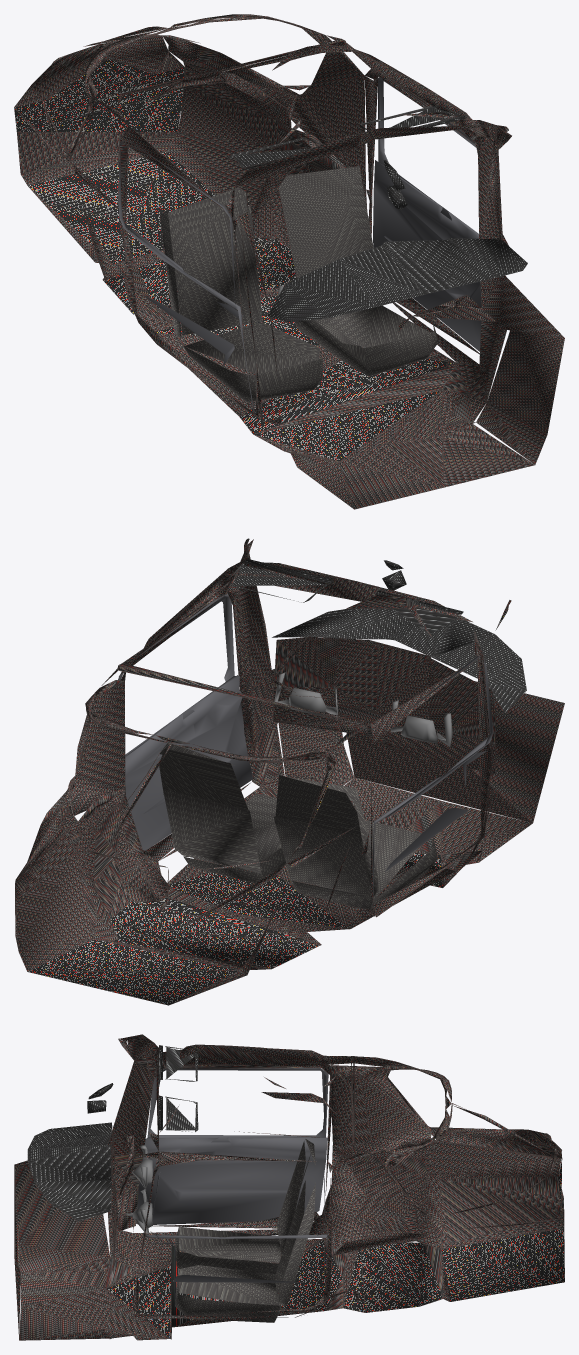
Rendered from C152_cockpit_LOD04.gltf.
3 renders of one model, top to bottom at view 1: azimuth 30°, elevation 25°; view 2: azimuth 150°, elevation 25°; view 3: azimuth 270°, elevation 25°, orthographic. The views are drawn at different scales.
Parts seen in each view (by area): view 1: Shell_NORMAL, Seats, Glareshield, Door_L, Door_R, Sun_visors, MainPanel; view 2: Shell_NORMAL, Seats, MainPanel, Door_L, Glareshield, Sun_visors, Door_R, HANDLING_Yoke_2, HANDLING_Yoke_1; view 3: Shell_NORMAL, Door_R, Seats, Glareshield, Sun_visors, Door_L, MainPanel, HANDLING_Yoke_1, HANDLING_Yoke_2, CompassFrame.
Part boxes in pixels (x1,y1,x2,y2): Shell_NORMAL: (14,14,564,509); Seats: (160,166,438,402); Glareshield: (268,238,527,322); Door_L: (373,77,481,351); Door_R: (118,141,254,413); Sun_visors: (226,105,465,168); MainPanel: (398,294,495,332); Shell_NORMAL: (15,538,564,1005); Seats: (159,743,437,909); MainPanel: (273,636,495,773); Door_L: (118,593,252,850); Glareshield: (272,608,526,712); Sun_visors: (227,558,463,634); Door_R: (373,656,493,893); HANDLING_Yoke_2: (391,700,452,746); HANDLING_Yoke_1: (274,672,337,717); Shell_NORMAL: (14,1034,564,1340); Door_R: (136,1068,328,1224); Seats: (175,1139,315,1322); Glareshield: (27,1122,111,1221); Sun_visors: (158,1045,198,1131); Door_L: (145,1172,328,1282); MainPanel: (110,1125,118,1273); HANDLING_Yoke_1: (125,1189,152,1233); HANDLING_Yoke_2: (131,1145,152,1190); CompassFrame: (87,1083,113,1113).
Size of what is drawn, in the model's own units: 1.05 by 1.12 by 2.39.
